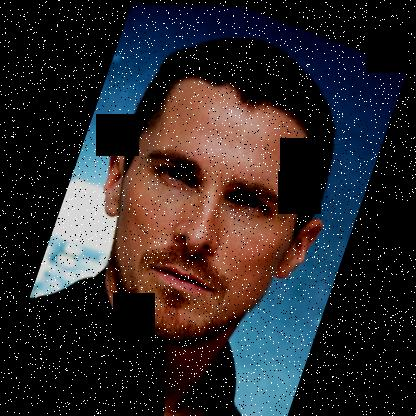Male: (59, 51, 354, 378)
